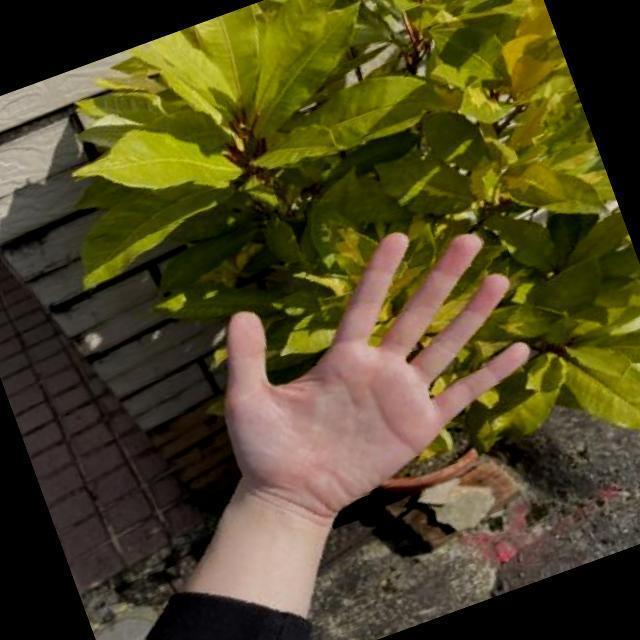hand: (168, 184, 572, 542)
